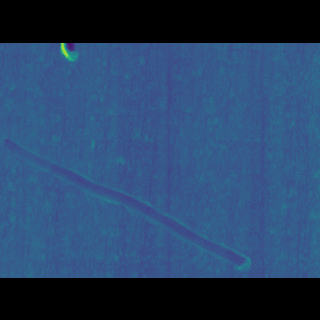Loch: (0, 141, 254, 242), (55, 73, 80, 91)
